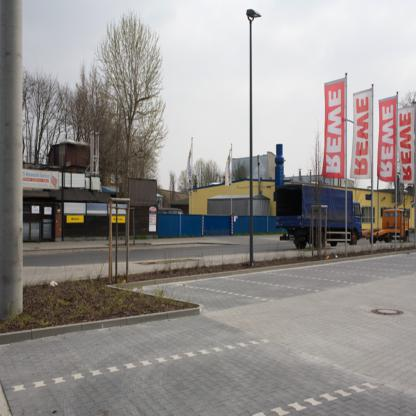Truck: (274, 168, 381, 240), (363, 208, 412, 242)
